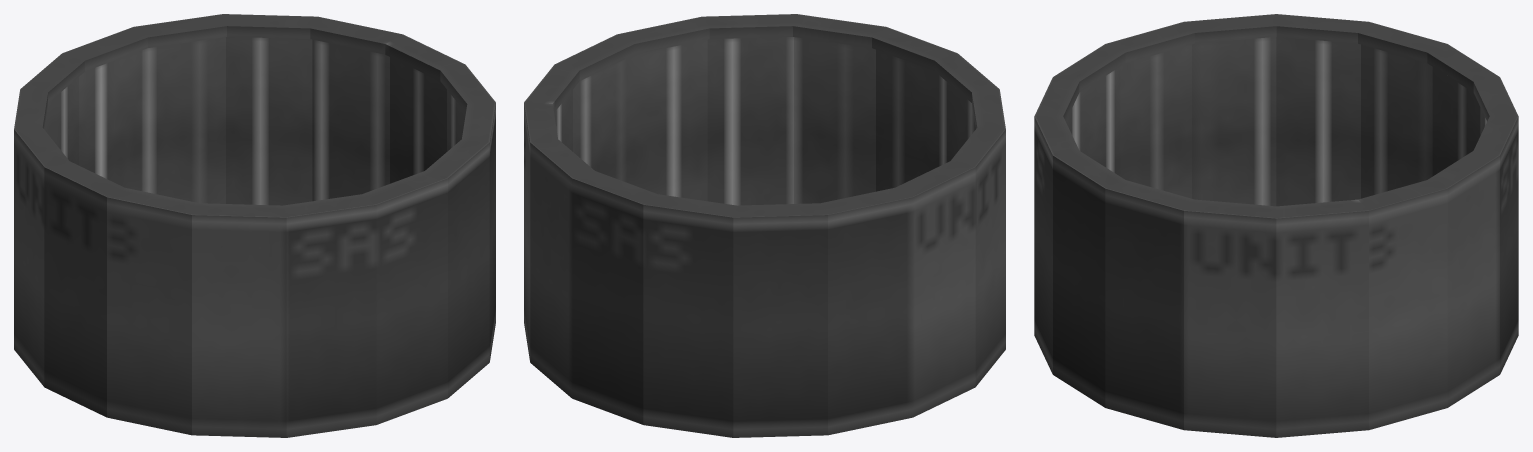
Rendered from reaction_wheel_20.obj.
3 views of the same model, side by side, from view 1: azimuth 30°, elevation 25°; view 2: azimuth 150°, elevation 25°; view 3: azimuth 270°, elevation 25° (orthographic).
Visible parts, largest first — view 1: Cylinder.001; view 2: Cylinder.001; view 3: Cylinder.001.
Boxes of the visible parts, box(x1,y1,x2,y2) form: Cylinder.001: box(14, 14, 495, 437); Cylinder.001: box(524, 14, 1005, 437); Cylinder.001: box(1034, 14, 1518, 437).
Size of the model in its own units: 2 by 1 by 2.
